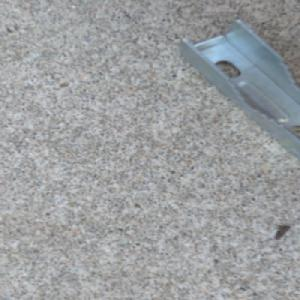ClampPart: (174, 18, 300, 160)
